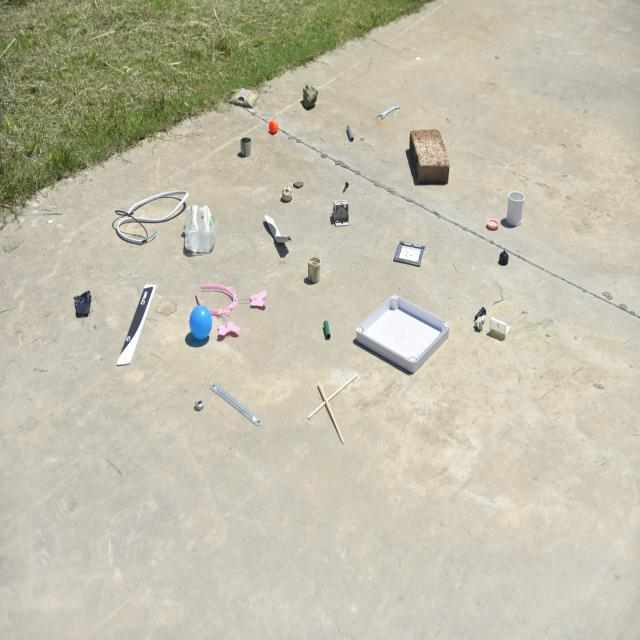Debris: (350, 294, 453, 377), (115, 278, 157, 378), (126, 184, 192, 244), (208, 368, 265, 431), (306, 378, 347, 451), (406, 126, 455, 184), (179, 202, 225, 258), (193, 275, 268, 308), (475, 303, 515, 343), (390, 233, 428, 275), (70, 284, 102, 324), (186, 302, 212, 351), (264, 213, 294, 255), (299, 249, 325, 291), (331, 186, 354, 232), (503, 190, 529, 230), (370, 98, 408, 119), (338, 118, 360, 154), (233, 84, 266, 108), (229, 130, 255, 155), (280, 182, 305, 204), (496, 246, 510, 270), (319, 324, 333, 346), (304, 86, 316, 110), (265, 119, 280, 136), (484, 213, 496, 232), (192, 399, 203, 412)
